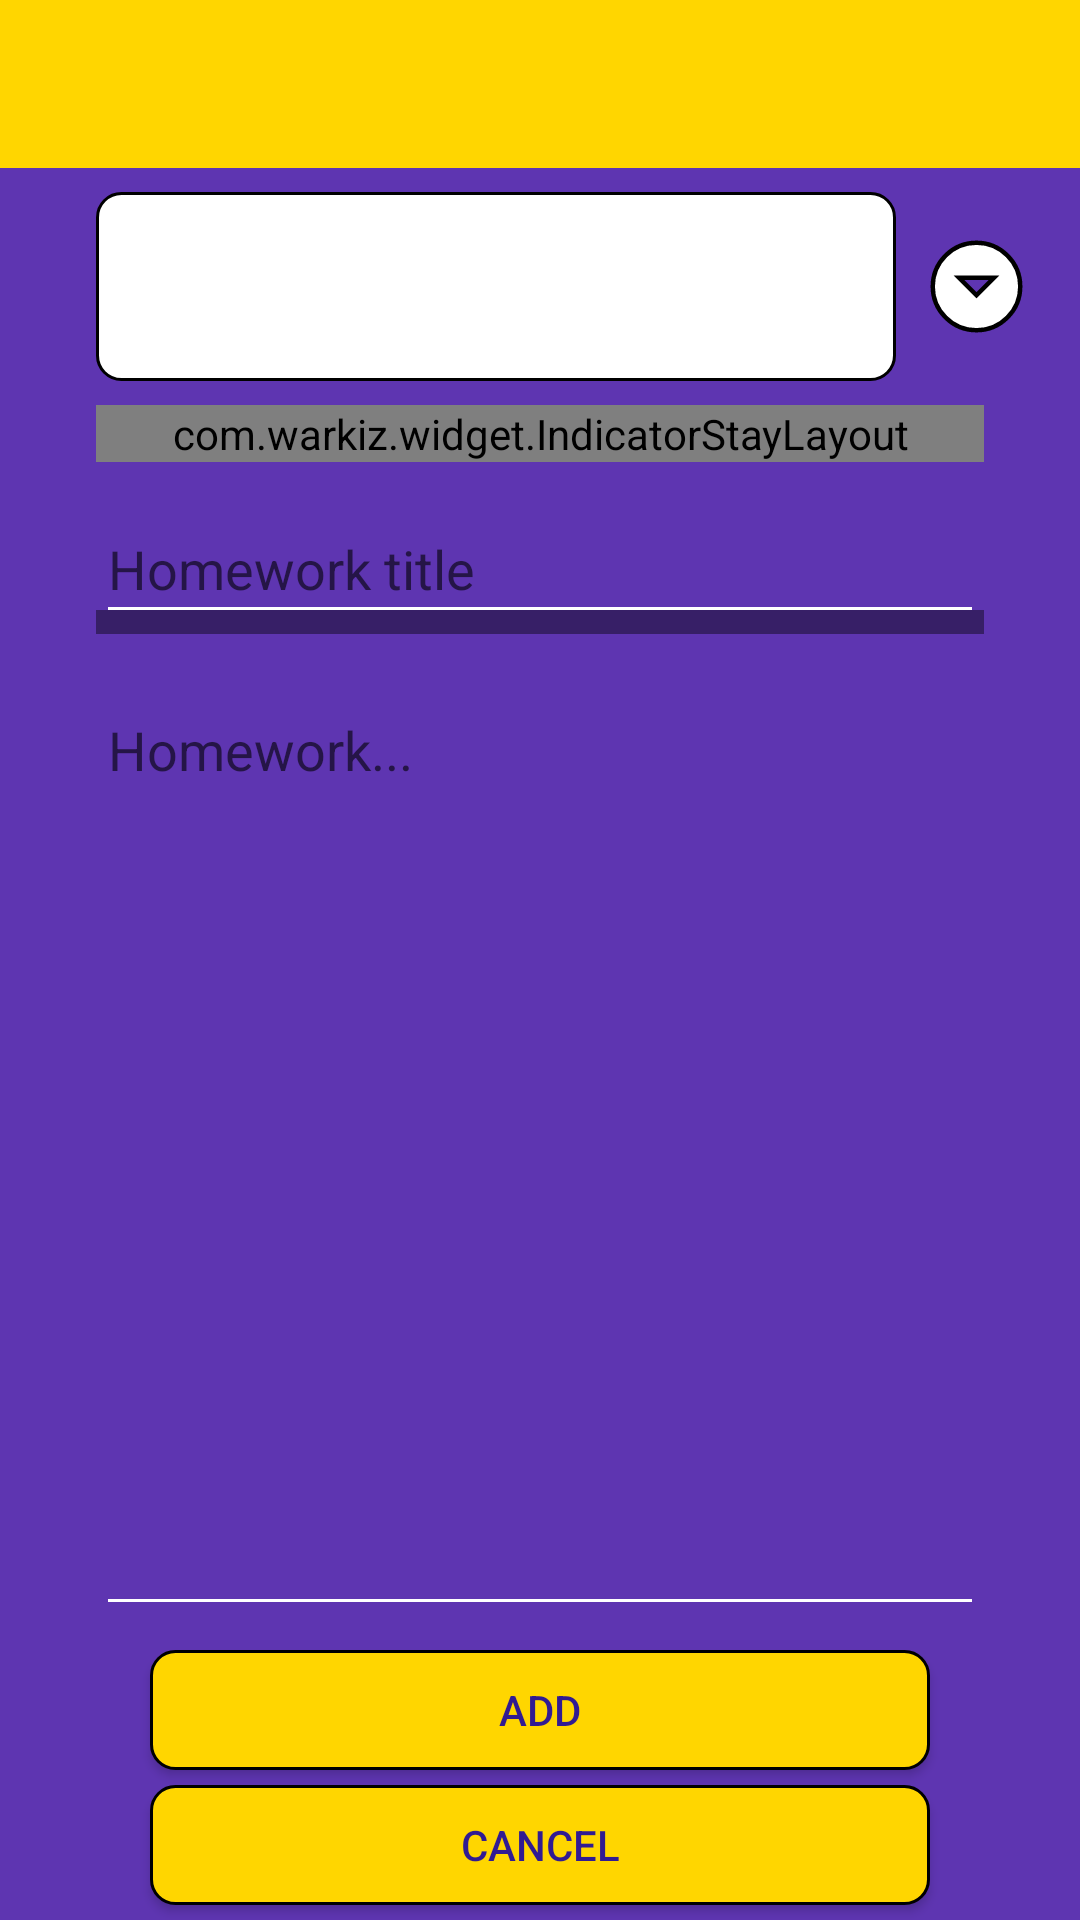

Where icons sit on this 1080*1920 app screen, as (x1, y1, x2, y2):
arrow drop down: (930, 240, 1023, 333)
